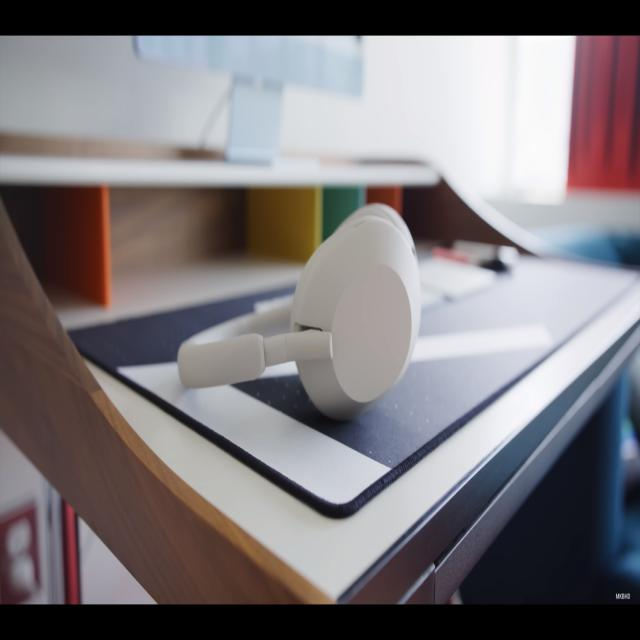Headphone: (178, 200, 422, 420)
